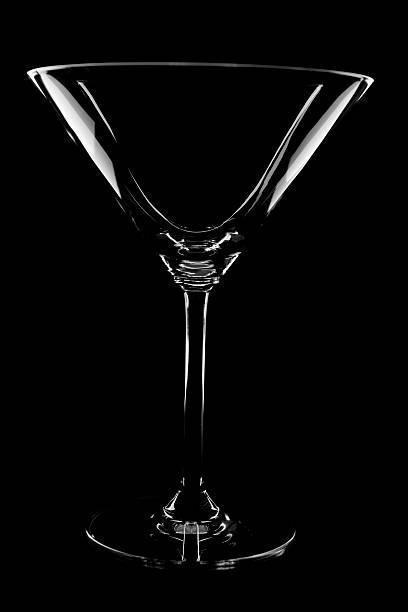glass-wine: (26, 57, 372, 572)
